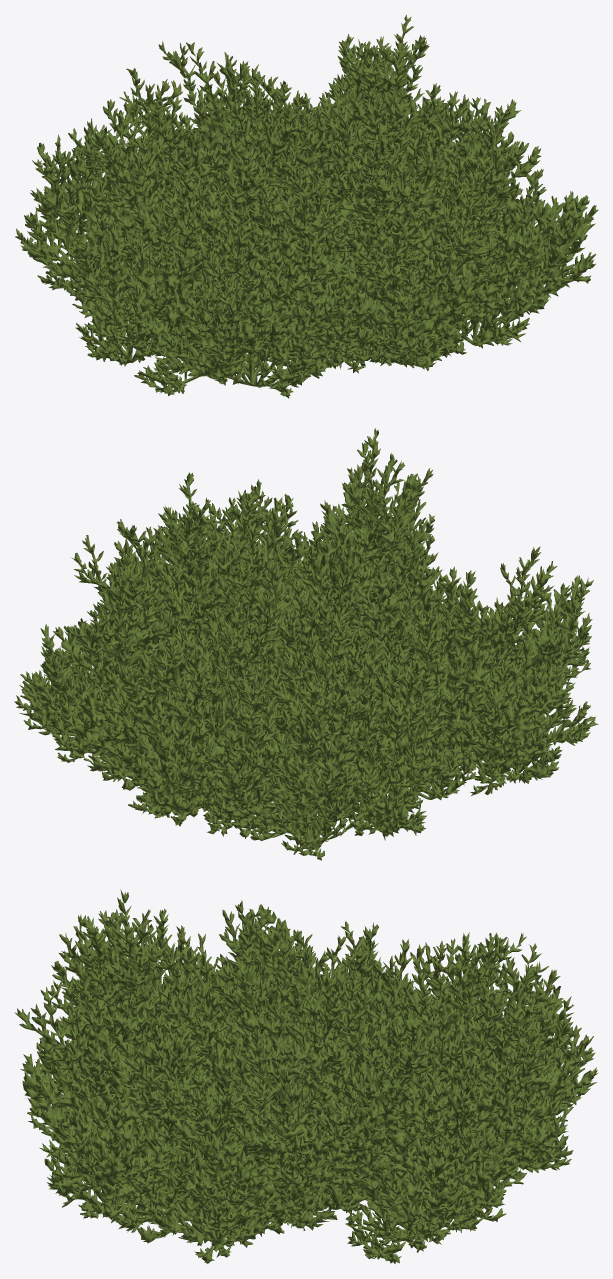
The model's file is watershrub.glb.
The picture shows the model from 3 angles, top to bottom: view 1: azimuth 30°, elevation 25°; view 2: azimuth 150°, elevation 25°; view 3: azimuth 270°, elevation 25°; orthographic projection. The views are drawn at different scales.
Size of the model in its own units: 1.89 by 0.9363 by 1.87.
1 material, 1 textured.
